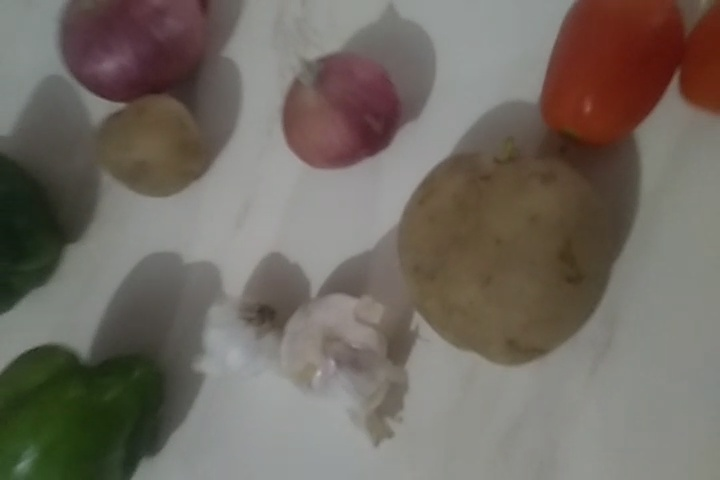capsicum: (4, 331, 160, 480), (1, 156, 61, 316)
garlic: (282, 290, 416, 440), (193, 304, 275, 386)
onion: (283, 53, 401, 169), (58, 1, 207, 90)
potato: (403, 153, 615, 361), (92, 95, 199, 201)
tomato: (540, 3, 687, 149), (684, 11, 720, 124)
